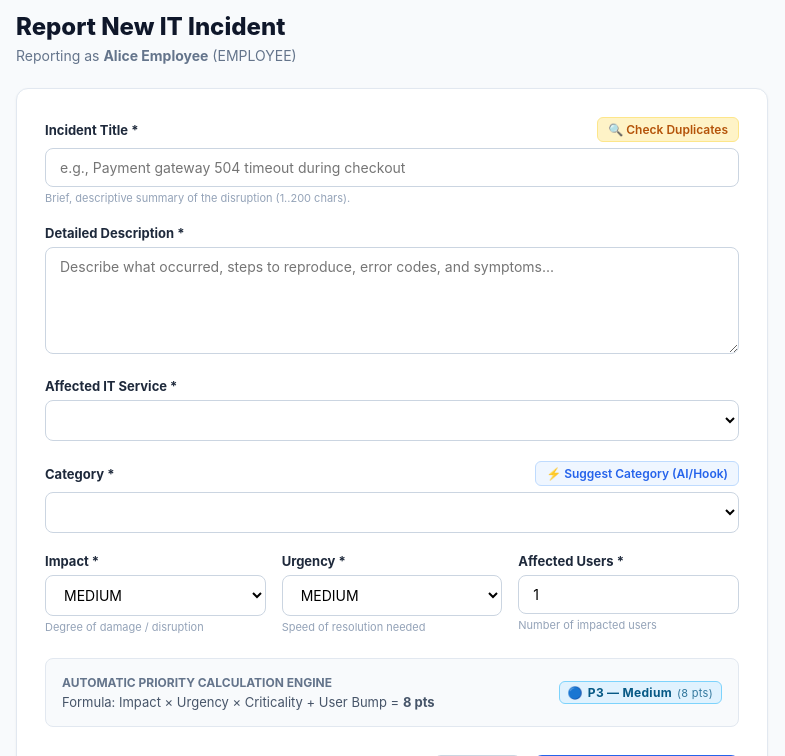
Duplicate Detection (Gate B7) › shows no duplicates confirmation when query is unique
The image size is (785, 756).
Step 1. Type "Completely unique ticket title" into the field with placeholder "e.g., Payment gateway 504 timeout during checkout" → {"x": 392, "y": 168}, box x1=45 y1=148 x2=739 y2=187
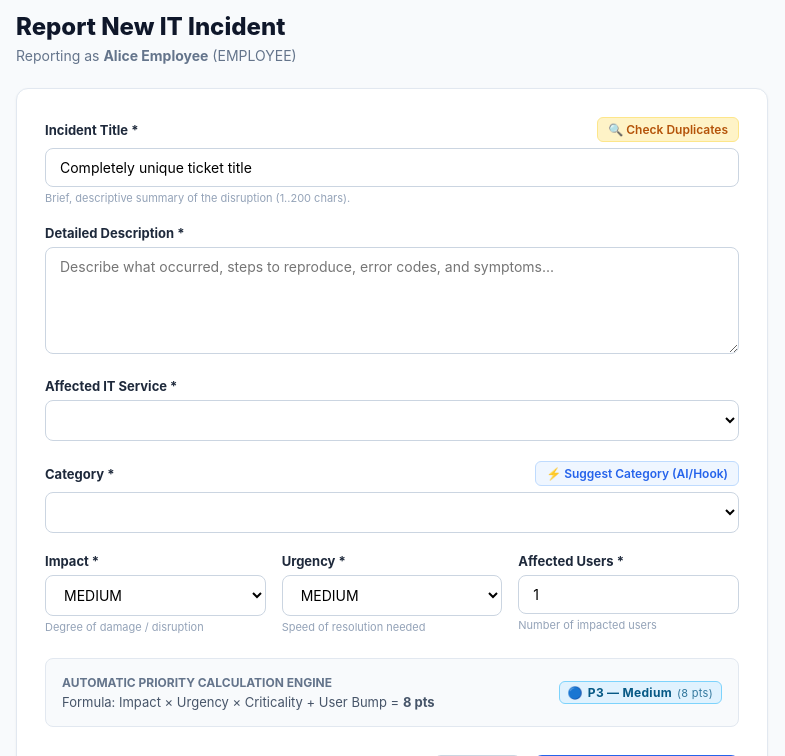
Step 2. Click the button "🔍 Check Duplicates" → {"x": 668, "y": 130}, box x1=597 y1=117 x2=739 y2=142
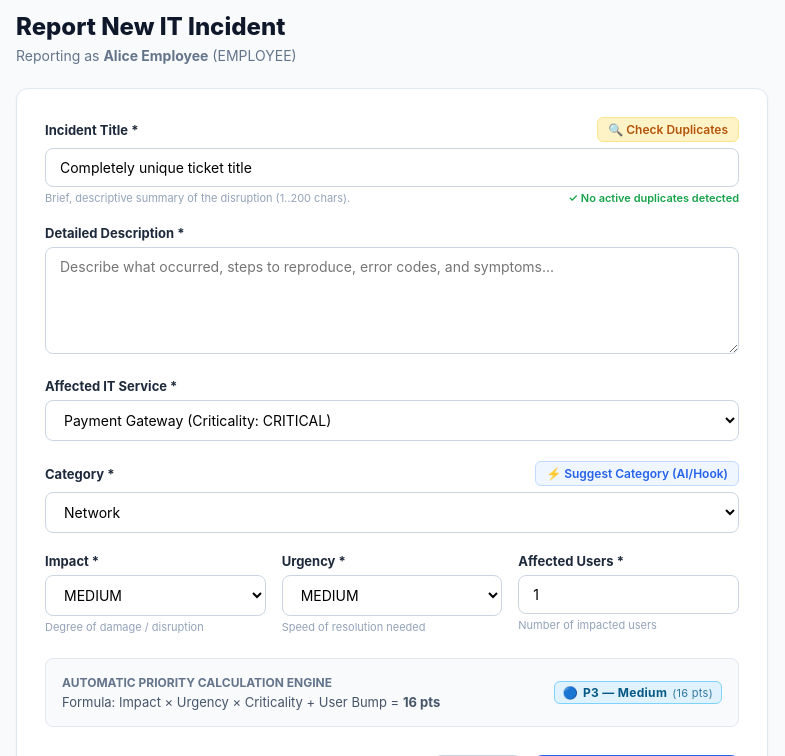
Expected: the text "✓ No active duplicates detected" is shown, x1=568 y1=191 x2=739 y2=205
